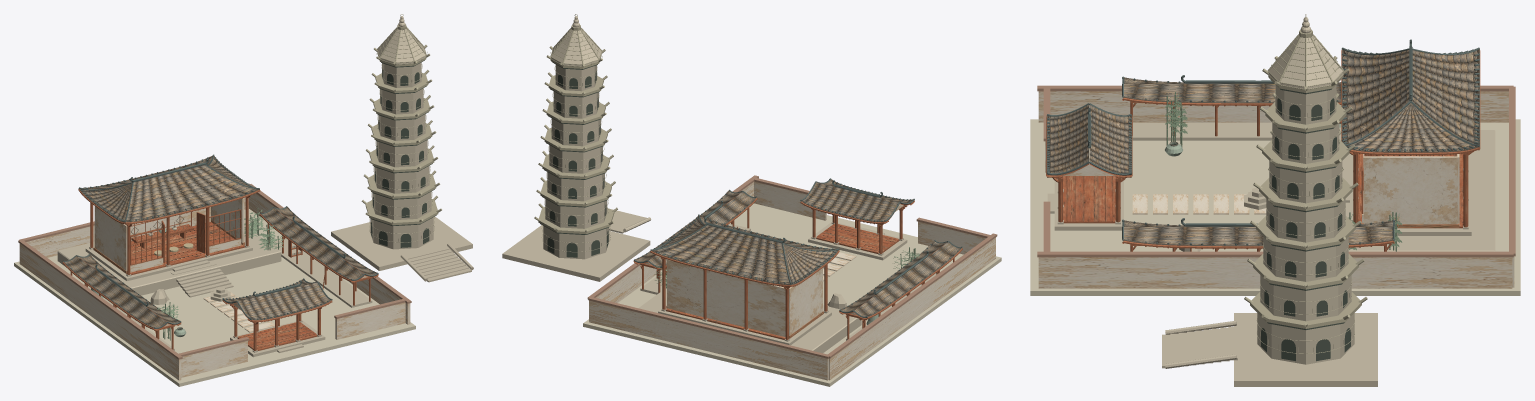
3 views of the same model, side by side, from view 1: azimuth 30°, elevation 25°; view 2: azimuth 150°, elevation 25°; view 3: azimuth 270°, elevation 25° (orthographic). The views are drawn at different scales.
Visible parts, largest first — view 1: anguosi__warm_limestone, anguosi__painted_roof, anguosi__painted_plaster, anguosi__shore_sand, anguosi__painted_cedar, anguosi__shore_silt, anguosi__tile_ridges, anguosi__deep_recess, anguosi__chibi_ink, anguosi__jade_foliage; view 2: anguosi__painted_plaster, anguosi__warm_limestone, anguosi__painted_roof, anguosi__shore_sand, anguosi__shore_silt, anguosi__painted_cedar, anguosi__deep_recess, anguosi__tile_ridges, anguosi__chibi_ink; view 3: anguosi__warm_limestone, anguosi__painted_roof, anguosi__painted_plaster, anguosi__shore_sand, anguosi__shore_silt, anguosi__painted_cedar, anguosi__deep_recess, anguosi__tile_ridges, anguosi__chibi_ink, anguosi__jade_foliage.
Boxes of the visible parts, x1,y1,x2,y2 form: anguosi__warm_limestone: [57, 16, 473, 357]; anguosi__painted_roof: [18, 156, 411, 359]; anguosi__painted_plaster: [19, 193, 410, 380]; anguosi__shore_sand: [14, 209, 415, 386]; anguosi__painted_cedar: [62, 189, 378, 350]; anguosi__shore_silt: [361, 14, 441, 242]; anguosi__tile_ridges: [62, 154, 378, 328]; anguosi__deep_recess: [370, 60, 436, 247]; anguosi__chibi_ink: [63, 155, 376, 329]; anguosi__jade_foliage: [157, 208, 283, 340]; anguosi__painted_plaster: [589, 181, 995, 380]; anguosi__warm_limestone: [502, 16, 936, 353]; anguosi__painted_roof: [587, 175, 997, 358]; anguosi__shore_sand: [583, 203, 1001, 386]; anguosi__shore_silt: [534, 14, 617, 252]; anguosi__painted_cedar: [633, 194, 962, 339]; anguosi__deep_recess: [540, 62, 608, 257]; anguosi__tile_ridges: [634, 178, 962, 317]; anguosi__chibi_ink: [635, 179, 962, 316]; anguosi__warm_limestone: [1047, 17, 1495, 386]; anguosi__painted_roof: [1037, 50, 1515, 257]; anguosi__painted_plaster: [1038, 91, 1514, 288]; anguosi__shore_sand: [1030, 119, 1520, 295]; anguosi__shore_silt: [1244, 14, 1367, 353]; anguosi__painted_cedar: [1046, 50, 1480, 251]; anguosi__deep_recess: [1261, 88, 1350, 361]; anguosi__tile_ridges: [1047, 39, 1479, 245]; anguosi__chibi_ink: [1046, 49, 1479, 246]; anguosi__jade_foliage: [1165, 92, 1402, 251].
Bounding box in the file's own units: 36.75 × 22.1 × 29.
Materials: 14 (4 with a texture image).
